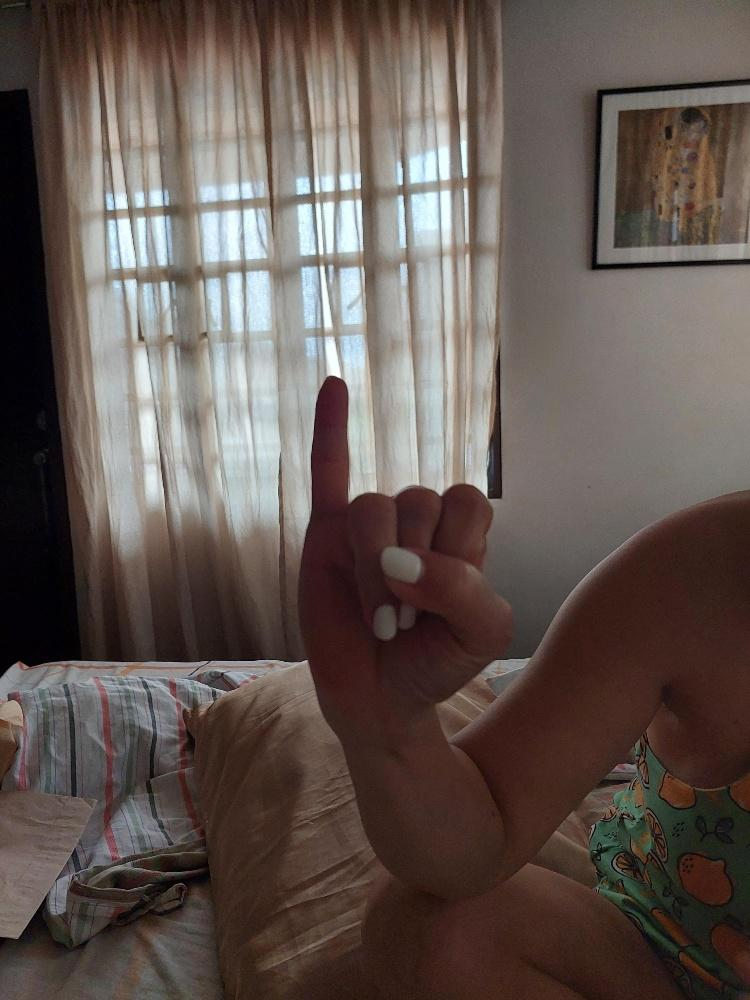i: (291, 369, 519, 716)
